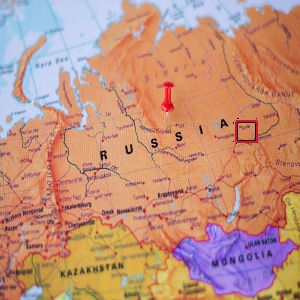square: (234, 120, 259, 144)
